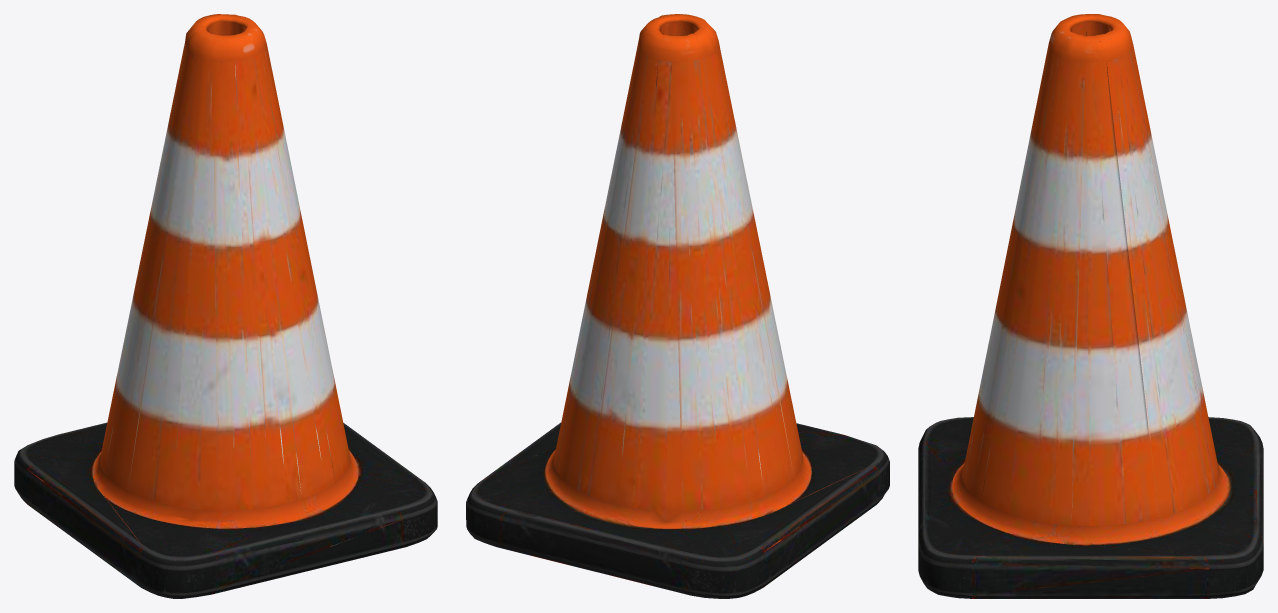
The picture shows the model from 3 angles, left to right: view 1: azimuth 30°, elevation 25°; view 2: azimuth 150°, elevation 25°; view 3: azimuth 270°, elevation 25°; orthographic projection. The views are drawn at different scales.
Visible parts, largest first — view 1: cone; view 2: cone; view 3: cone.
Boxes of the visible parts, <box> form: cone: <box>14,14,437,598</box>; cone: <box>466,14,889,598</box>; cone: <box>918,14,1263,598</box>.
Size of the model in its own units: 0.4 by 0.64 by 0.4.
1 material, 1 textured.
